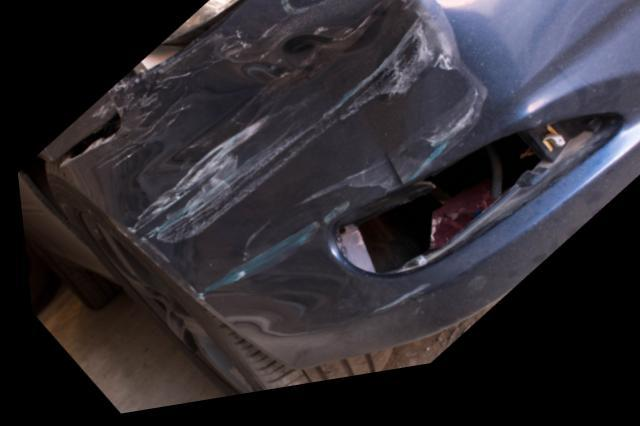crack: (375, 155, 403, 199)
dent: (99, 0, 478, 295)
dislocated part: (47, 71, 155, 177)
no part: (326, 136, 616, 290)
